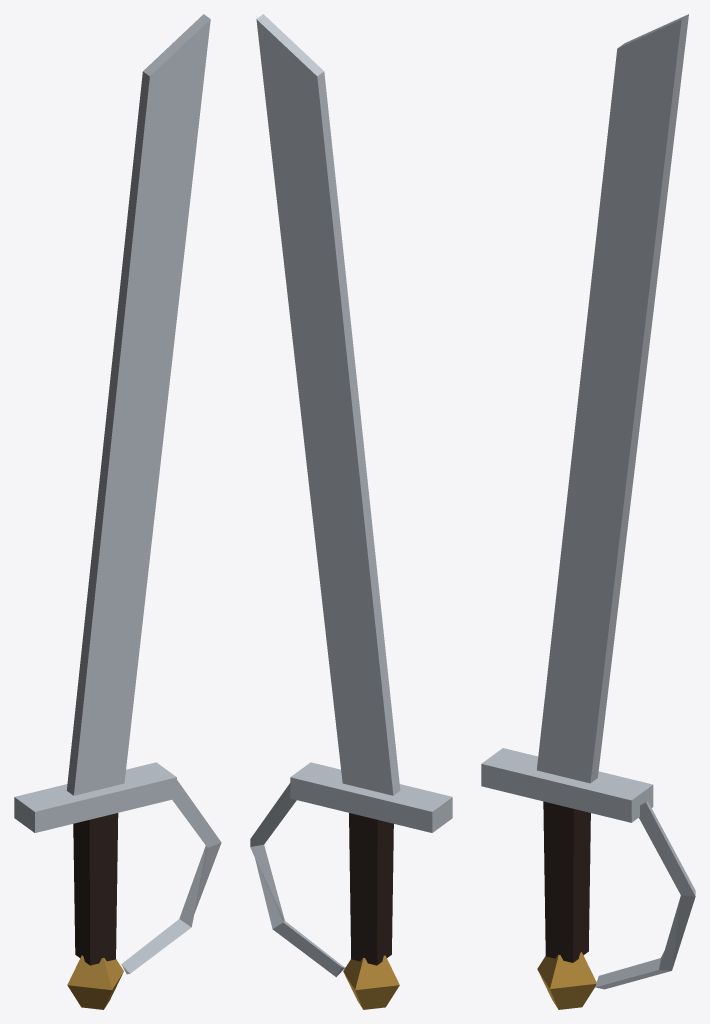
The model's file is SM_Prop_CaptainCutlass_LQ.glb.
3 views of the same model, side by side, from view 1: azimuth 30°, elevation 25°; view 2: azimuth 150°, elevation 25°; view 3: azimuth 330°, elevation 25° (orthographic). The views are drawn at different scales.
Parts seen in each view (by area): view 1: SM_Prop_CaptainCutlass_LQ; view 2: SM_Prop_CaptainCutlass_LQ; view 3: SM_Prop_CaptainCutlass_LQ.
Boxes of the visible parts, x1=… form: SM_Prop_CaptainCutlass_LQ: x1=14, y1=14, x2=221, y2=1009; SM_Prop_CaptainCutlass_LQ: x1=250, y1=14, x2=452, y2=1009; SM_Prop_CaptainCutlass_LQ: x1=481, y1=14, x2=695, y2=1009.
Size of the model in its own units: 0.1919 by 0.9042 by 0.056.
1 material, 1 textured.
